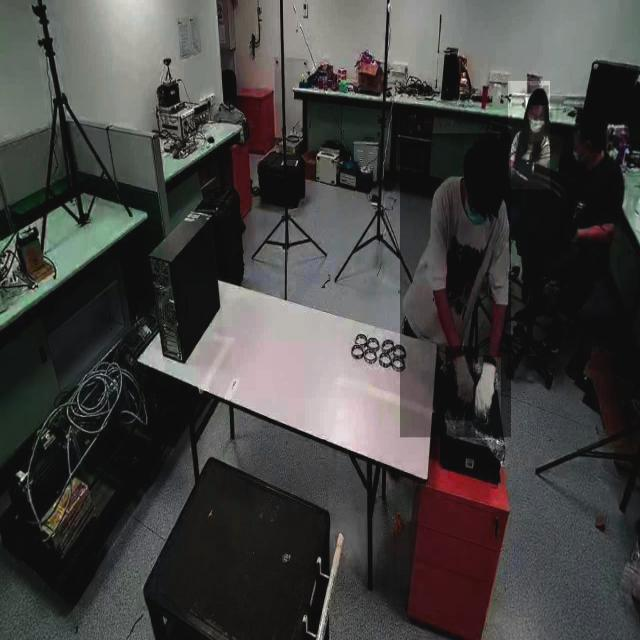face_mask: (463, 185, 491, 230), (529, 106, 545, 141)
hand_glove: (476, 357, 502, 441), (446, 346, 474, 421)
head_nohelmet: (464, 134, 506, 183), (576, 102, 608, 132), (527, 85, 549, 106)
person: (400, 134, 512, 438), (508, 81, 550, 190)
